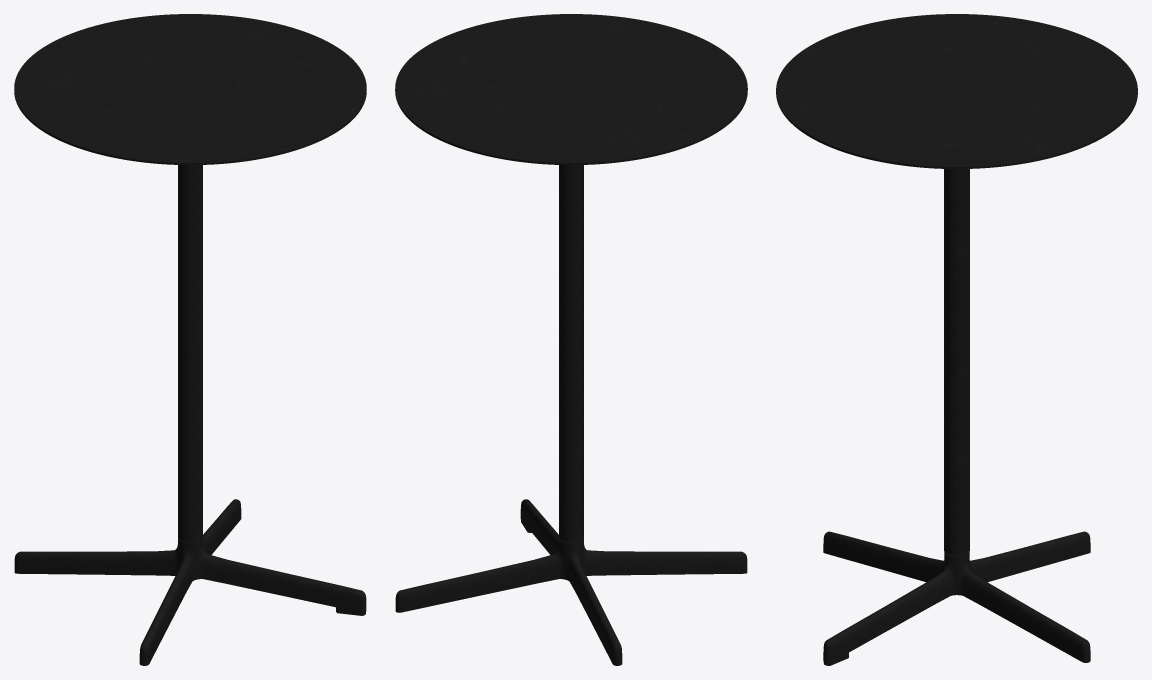
Rendered from neu_table_high.gltf.
The picture shows the model from 3 angles, left to right: view 1: azimuth 30°, elevation 25°; view 2: azimuth 150°, elevation 25°; view 3: azimuth 270°, elevation 25°; orthographic projection. The views are drawn at different scales.
Parts seen in each view (by area): view 1: Mesh; view 2: Mesh; view 3: Mesh.
Boxes of the visible parts, x1,y1,x2,y2 form: Mesh: (14, 14, 366, 665); Mesh: (395, 14, 747, 665); Mesh: (776, 14, 1137, 665).
Bounding box in the file's own units: 0.6 × 0.95 × 0.6.
1 material, 1 textured.
